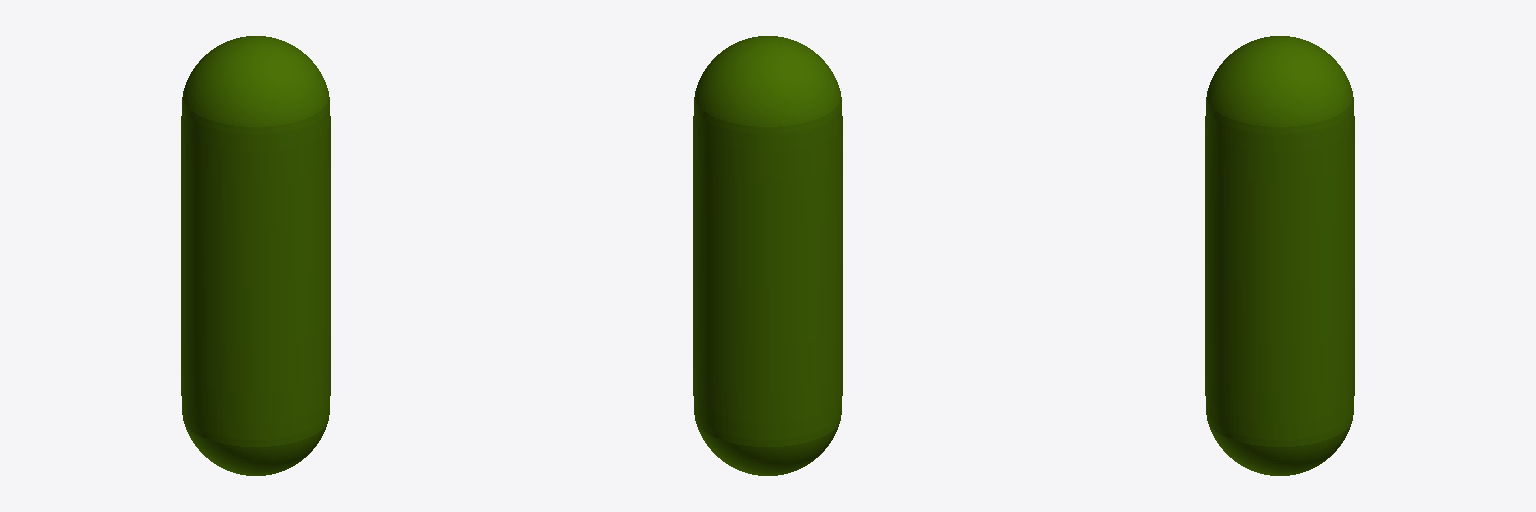
File: left_hand.obj
3 views of the same model, side by side, from view 1: azimuth 30°, elevation 25°; view 2: azimuth 150°, elevation 25°; view 3: azimuth 270°, elevation 25° (orthographic).
Parts seen in each view (by area): view 1: left_hand:Mesh; view 2: left_hand:Mesh; view 3: left_hand:Mesh.
Part boxes in pixels (x1,y1,x2,y2): left_hand:Mesh: (181, 36, 330, 475); left_hand:Mesh: (693, 36, 842, 475); left_hand:Mesh: (1205, 36, 1354, 475).
Bounding box in the file's own units: 0.4416 × 1.38 × 0.4416.